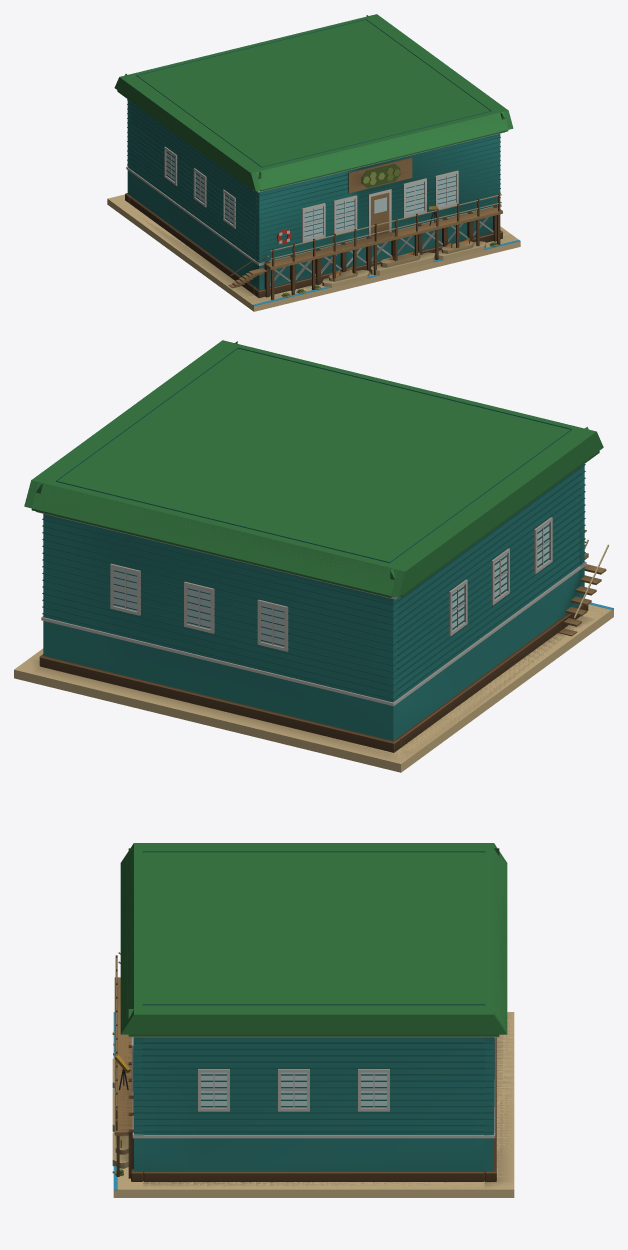
File: DuneTurtleFloor.fbx
3 views of the same model, one above another, from view 1: azimuth 30°, elevation 25°; view 2: azimuth 150°, elevation 25°; view 3: azimuth 270°, elevation 25° (orthographic). The views are drawn at different scales.
Parts seen in each view (by area): view 1: TH_S_All, TH_F_Rings, TH_F_Smooth, TH_F_Glass, TH_F_Props, TH_F_Quiet; view 2: TH_S_All, TH_F_Rings, TH_F_Smooth, TH_F_Quiet, TH_F_Glass; view 3: TH_S_All, TH_F_Rings, TH_F_Smooth, TH_F_Quiet, TH_F_Glass, TH_F_Props.
Boxes of the visible parts, x1=… form: TH_S_All: x1=107, y1=14, x2=520, y2=311; TH_F_Rings: x1=121, y1=15, x2=508, y2=297; TH_F_Smooth: x1=117, y1=90, x2=508, y2=300; TH_F_Glass: x1=166, y1=151, x2=520, y2=305; TH_F_Props: x1=322, y1=241, x2=485, y2=287; TH_F_Quiet: x1=129, y1=207, x2=518, y2=304; TH_S_All: x1=14, y1=340, x2=613, y2=772; TH_F_Rings: x1=31, y1=341, x2=598, y2=752; TH_F_Smooth: x1=31, y1=451, x2=608, y2=752; TH_F_Quiet: x1=14, y1=605, x2=611, y2=763; TH_F_Glass: x1=114, y1=523, x2=613, y2=646; TH_S_All: x1=113, y1=843, x2=514, y2=1197; TH_F_Rings: x1=114, y1=847, x2=507, y2=1181; TH_F_Smooth: x1=112, y1=952, x2=499, y2=1181; TH_F_Quiet: x1=143, y1=1012, x2=513, y2=1189; TH_F_Glass: x1=113, y1=1012, x2=386, y2=1190; TH_F_Props: x1=112, y1=1058, x2=128, y2=1168.
Size of the model in its own units: 60 by 20 by 60.
